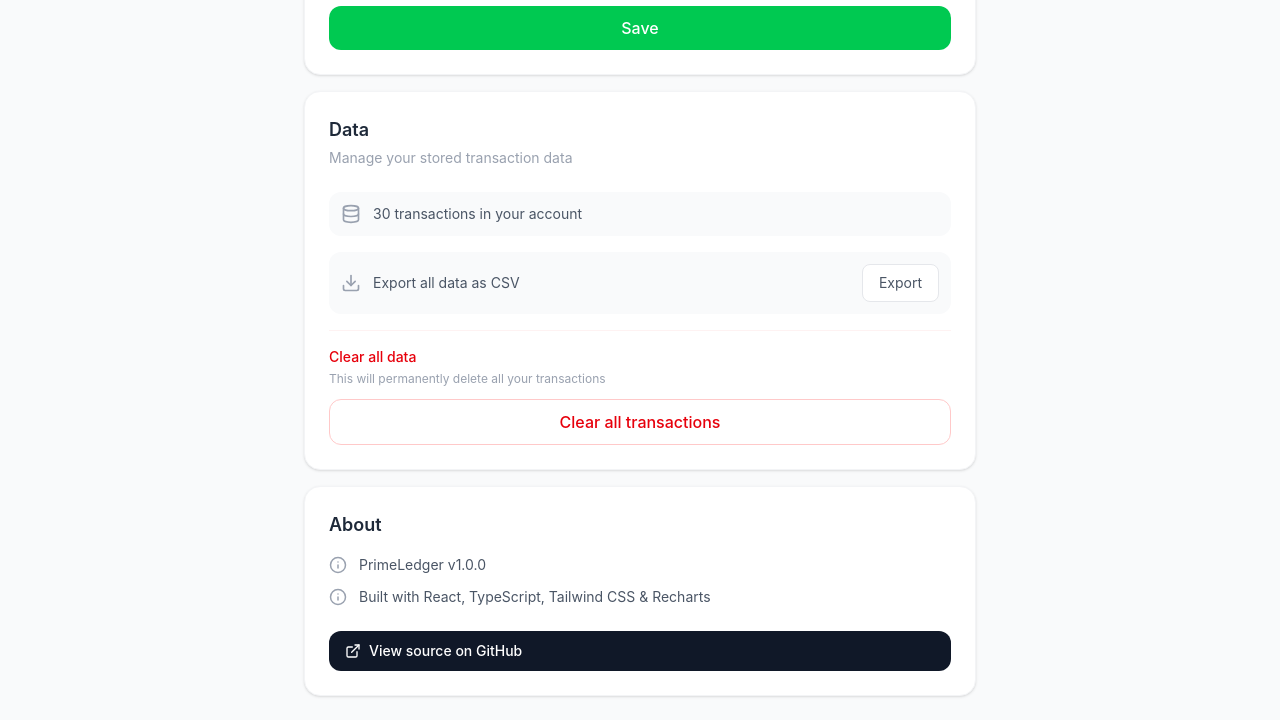
figures that describe the ledger, not the page › reports the whole ledger in the settings count and its delete warning
(page scrolled)
Expected: the text "30 transactions in your account" is shown, [373,204,582,224]
What coordinates should you click on to do the following:
click the button "Clear all transactions"
I would click on:
 (640, 422)
Its box is [329,399,951,445].
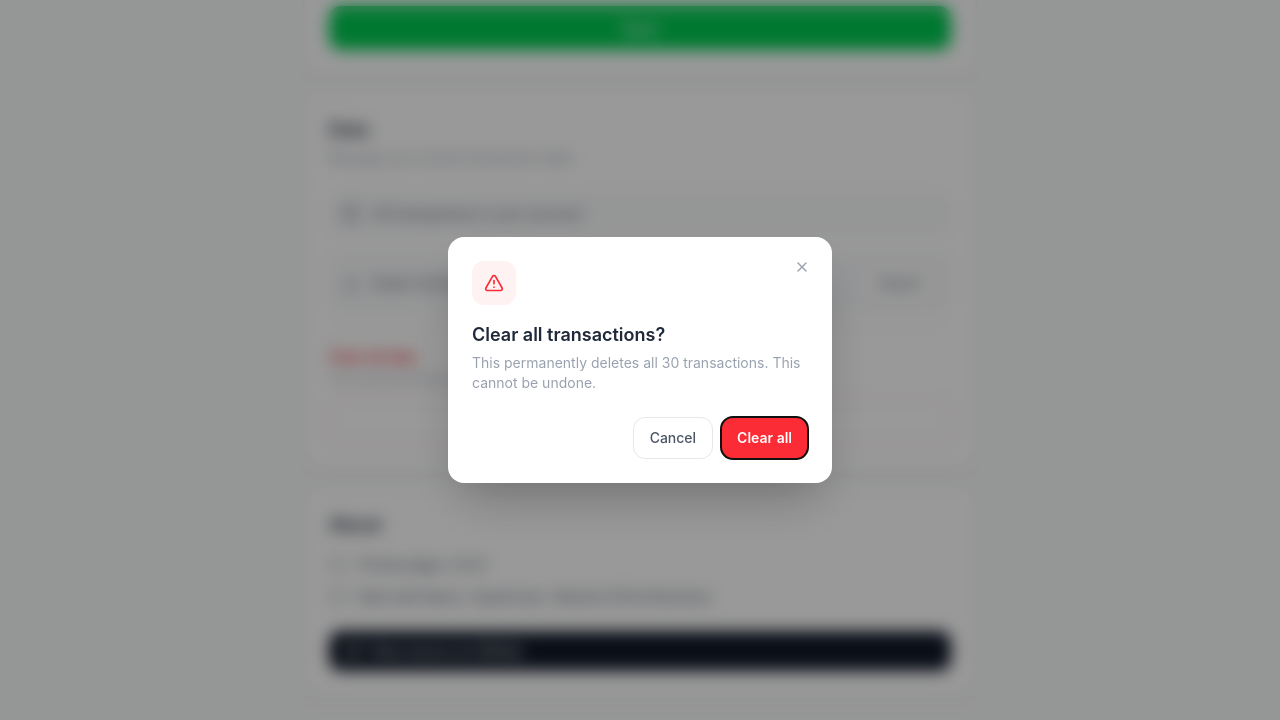
Now the text "all 30 transactions" is shown, box [472,354,800,391]
